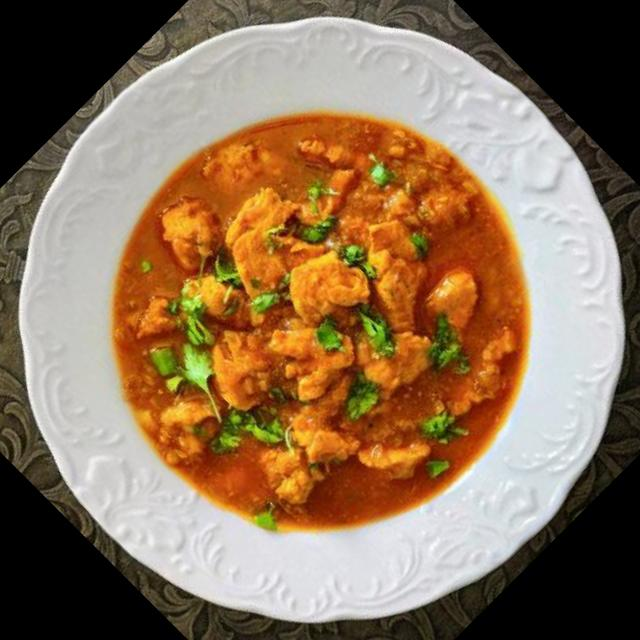chicken: (51, 46, 596, 592)
